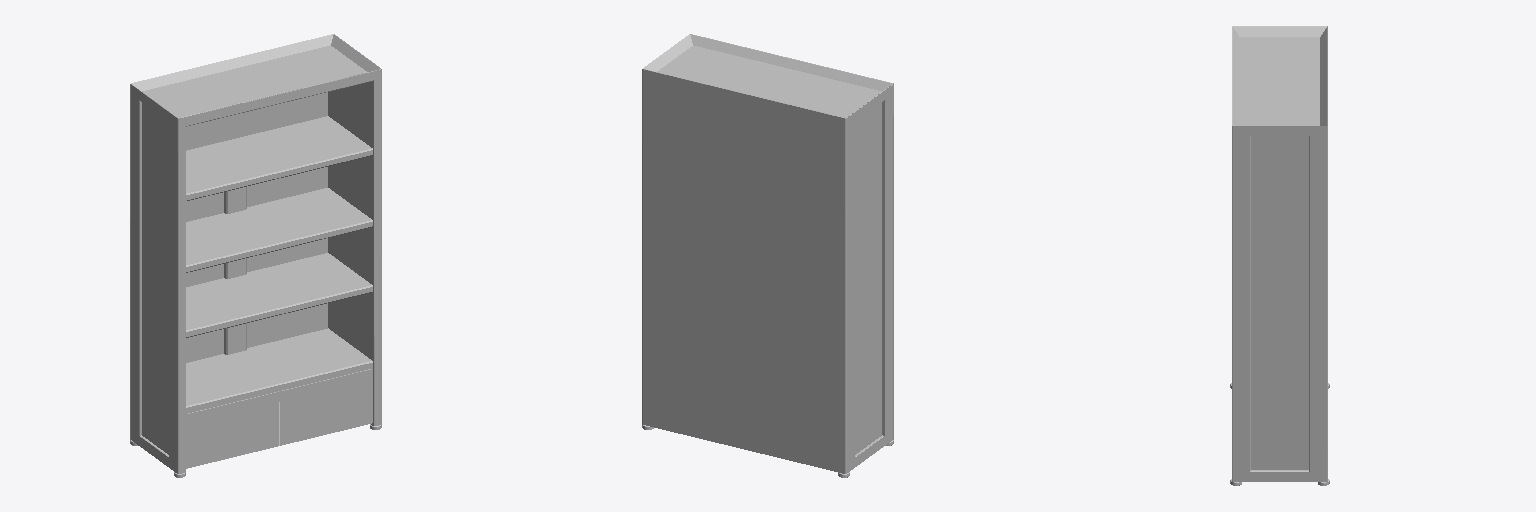
The model's file is uploads_files_4140237_Antique+BookShelf.obj.
3 renders of one model, left to right at view 1: azimuth 30°, elevation 25°; view 2: azimuth 150°, elevation 25°; view 3: azimuth 270°, elevation 25°, orthographic.
Visible parts, largest first — view 1: Bookshelf; view 2: Bookshelf; view 3: Bookshelf.
Boxes of the visible parts, box(x1,y1,x2,y2) form: Bookshelf: box(130, 34, 381, 477); Bookshelf: box(642, 34, 893, 477); Bookshelf: box(1230, 26, 1329, 485).
Bounding box in the file's own units: 1.2 × 2 × 0.5.